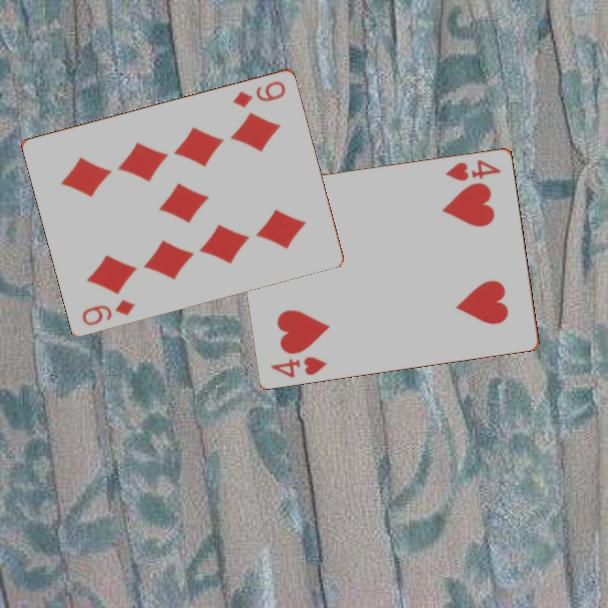d09: (230, 77, 289, 110), (78, 296, 138, 328)
h04: (268, 353, 331, 380), (442, 156, 504, 183)
